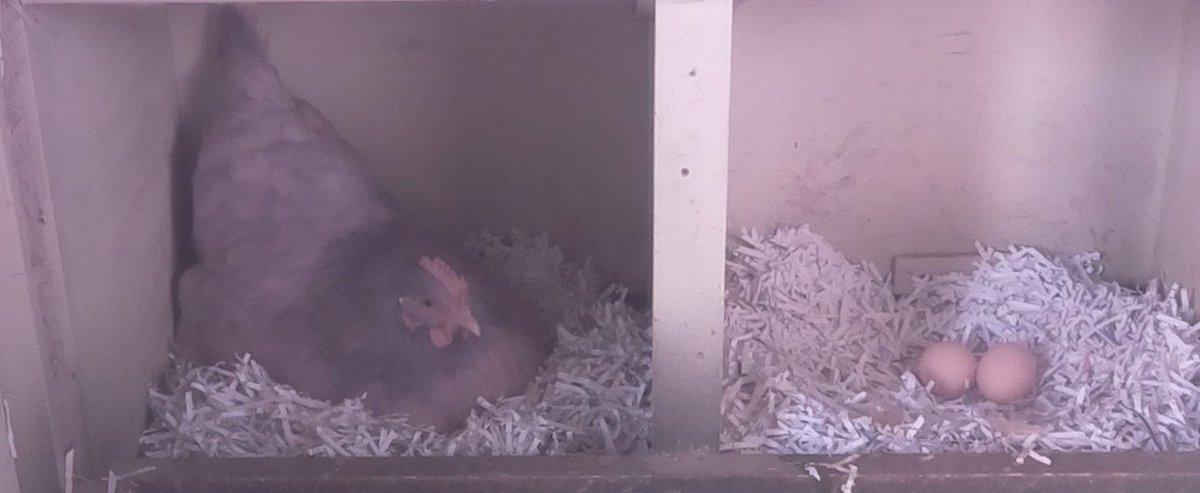egg: (917, 338, 981, 404), (972, 341, 1040, 403)
hen: (173, 9, 555, 440)
